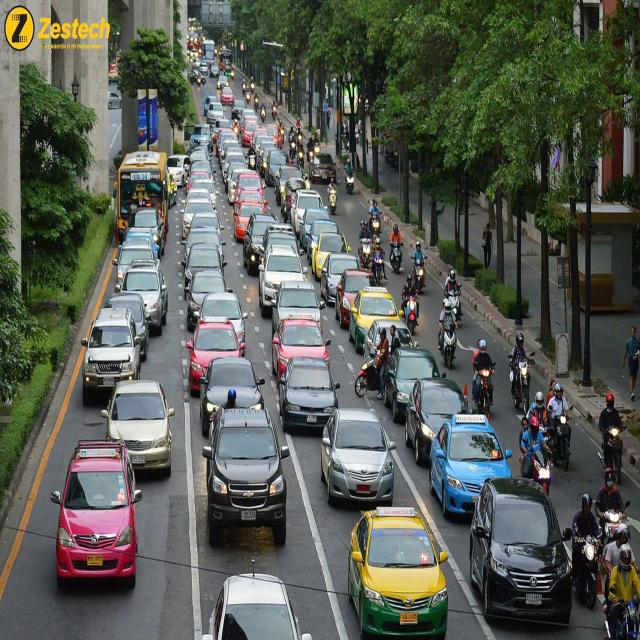car: (471, 475, 576, 632), (346, 503, 451, 640), (52, 438, 142, 592), (202, 408, 291, 546), (429, 413, 520, 514), (318, 407, 399, 507), (210, 563, 313, 640), (104, 376, 175, 481), (401, 372, 471, 475), (195, 353, 273, 435), (78, 307, 142, 402), (280, 326, 346, 410), (183, 316, 250, 398), (121, 254, 173, 337), (382, 342, 437, 417), (105, 289, 158, 365), (272, 313, 334, 373), (194, 288, 252, 352), (257, 241, 309, 311), (348, 286, 402, 351), (187, 267, 230, 331), (117, 240, 160, 292)
motobyte: (602, 520, 640, 640), (574, 490, 602, 610), (598, 391, 629, 486), (520, 412, 554, 498), (597, 466, 629, 551), (549, 378, 573, 467), (510, 328, 533, 411), (532, 388, 556, 463), (472, 337, 494, 414), (438, 296, 460, 370), (526, 538, 548, 611), (402, 274, 422, 334), (444, 267, 464, 325), (410, 238, 429, 295), (357, 216, 374, 267), (371, 232, 386, 286), (390, 221, 405, 271), (368, 197, 383, 240), (342, 156, 357, 195), (327, 175, 340, 216)
